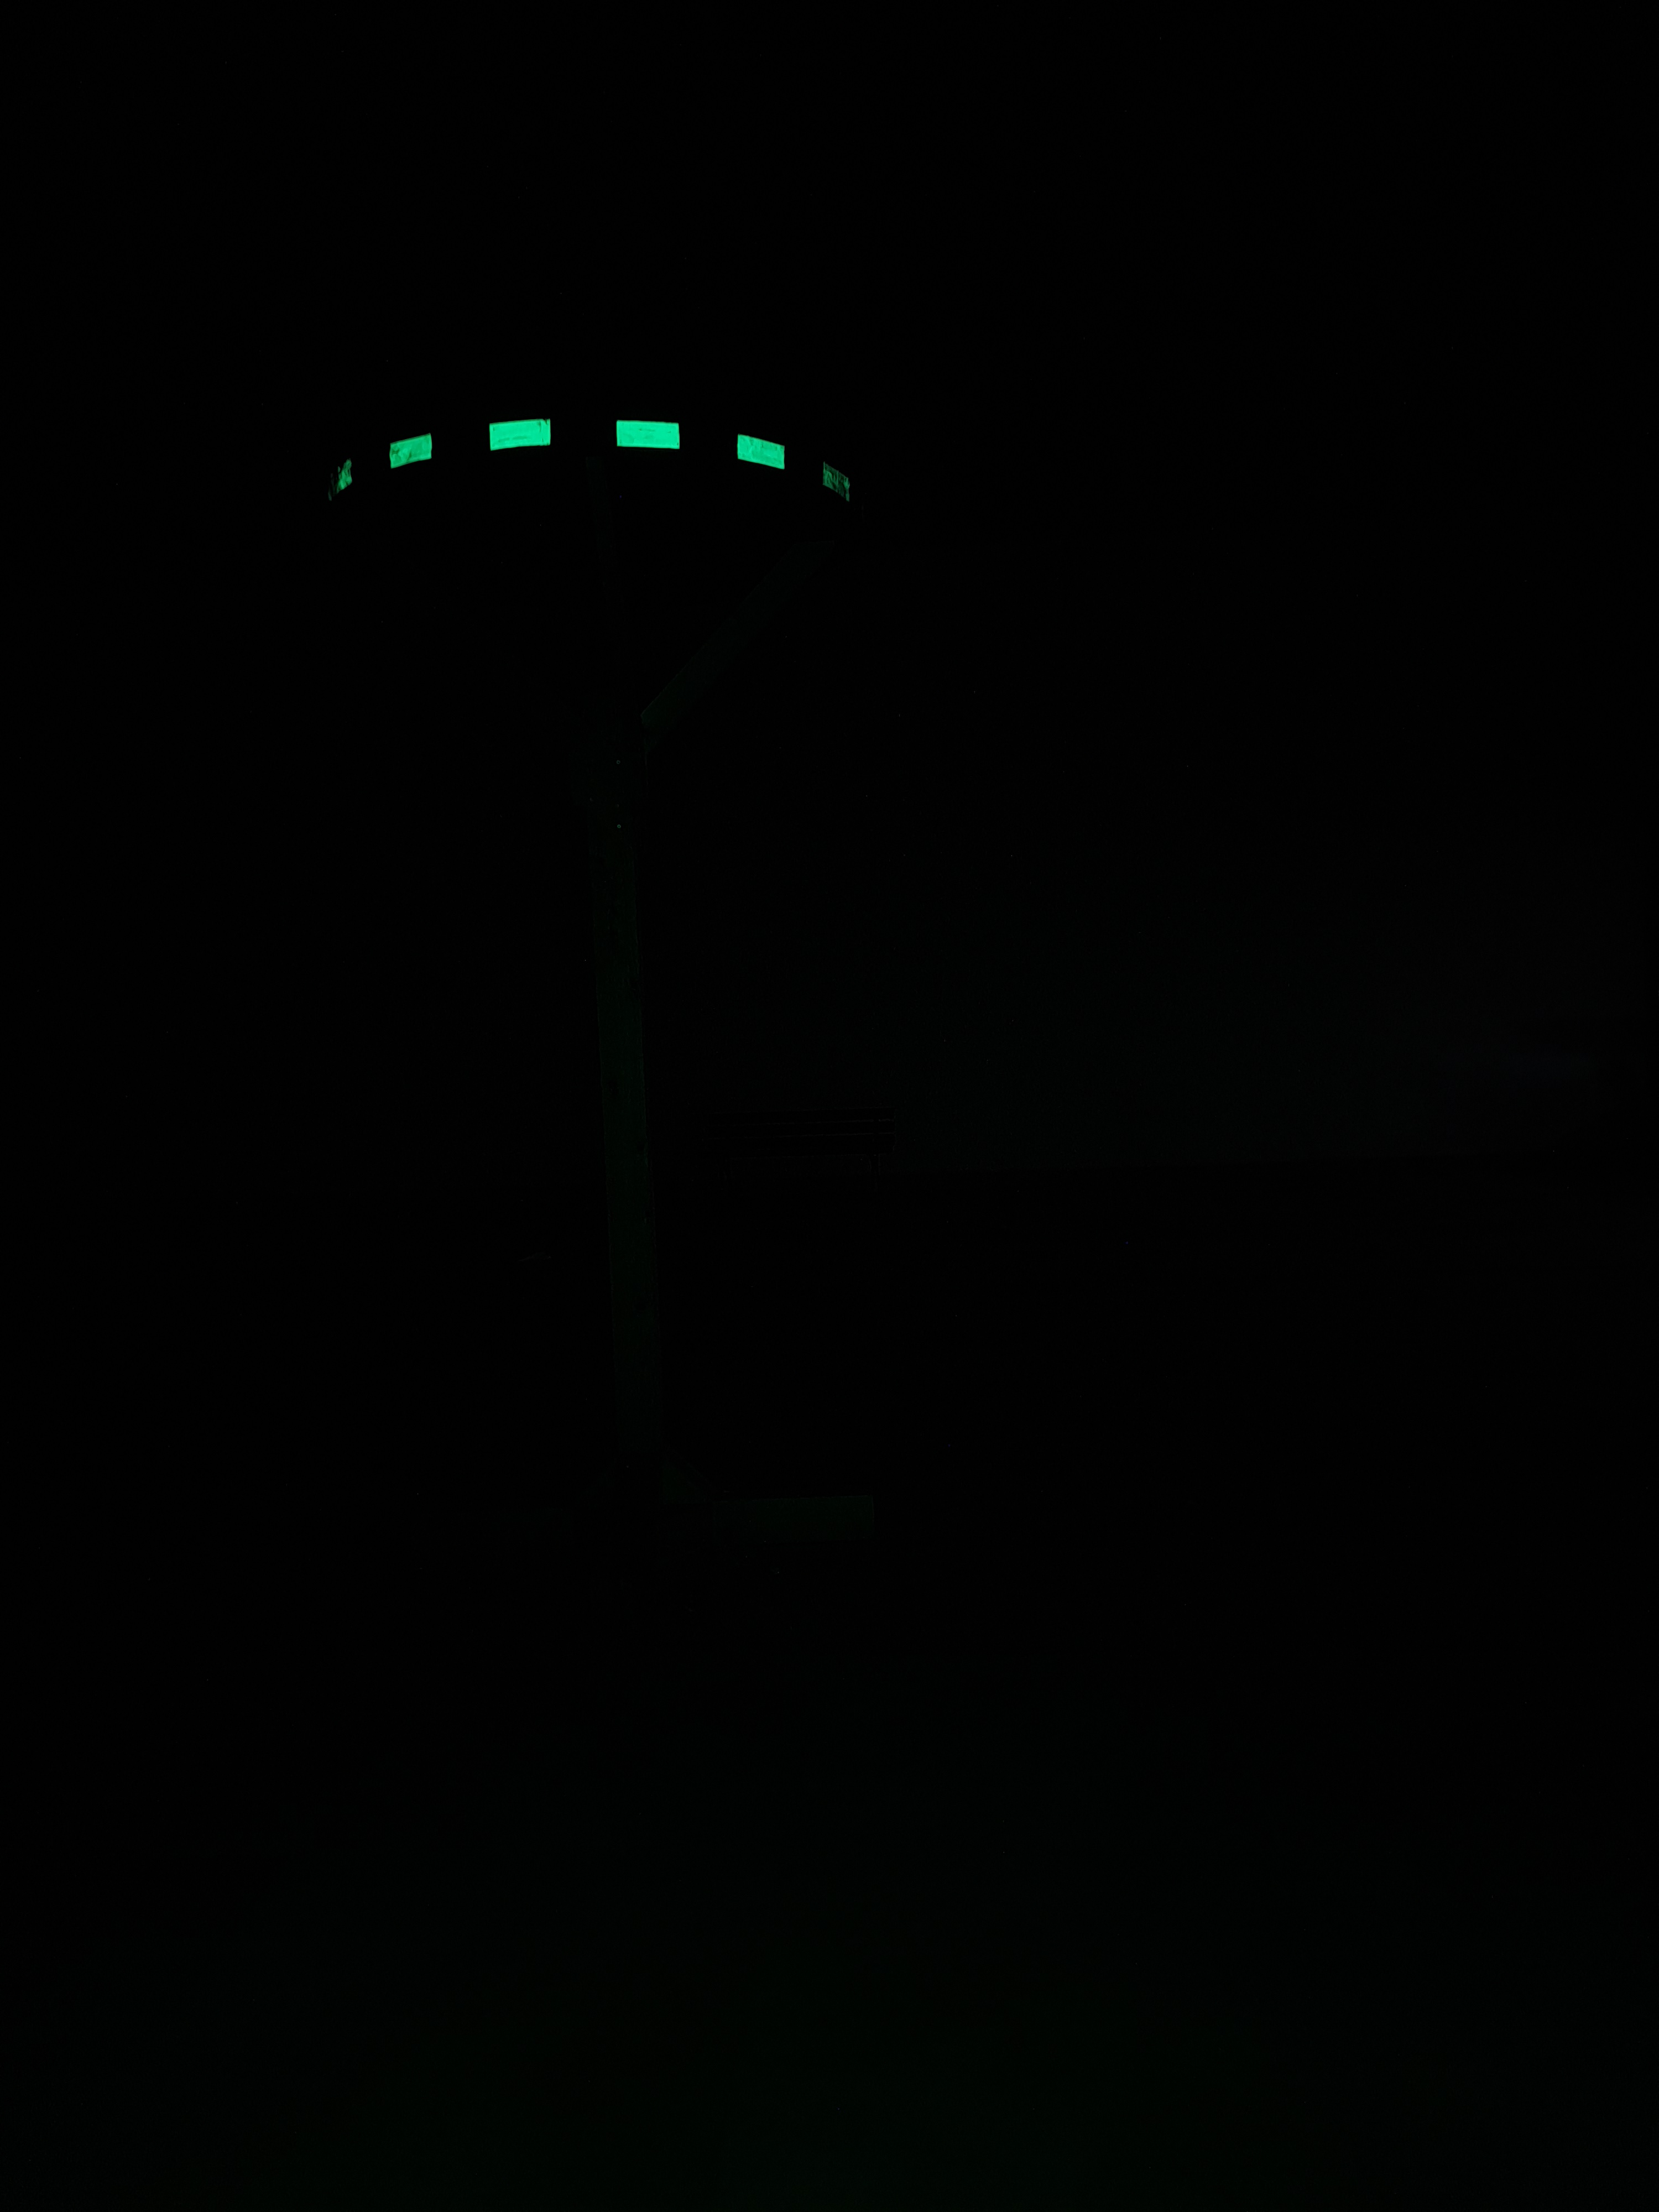hoop: (321, 404, 856, 523)
